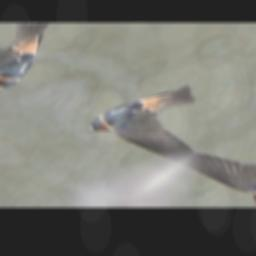Swallow: (78, 69, 250, 169)
